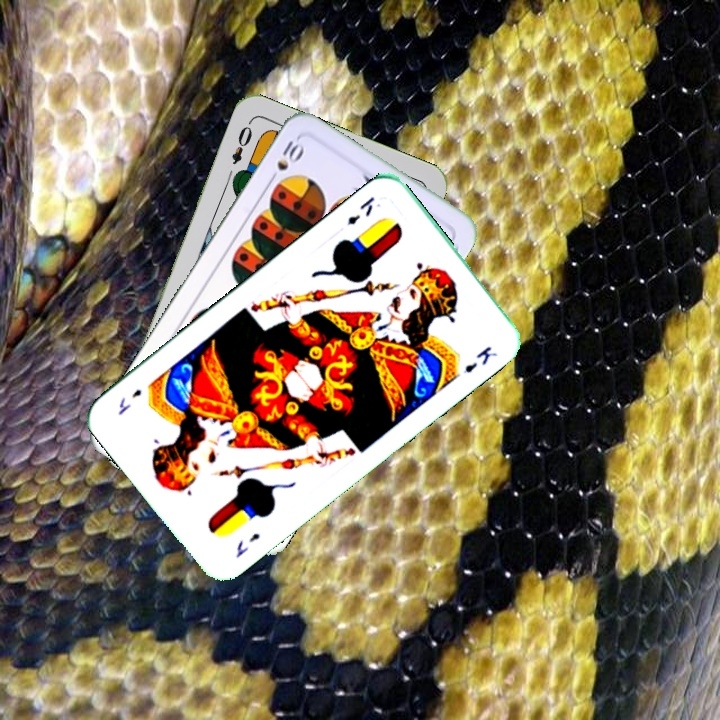EK: (343, 192, 378, 228), (231, 529, 263, 560)
EO: (227, 117, 255, 167)
S10: (264, 134, 306, 186)
